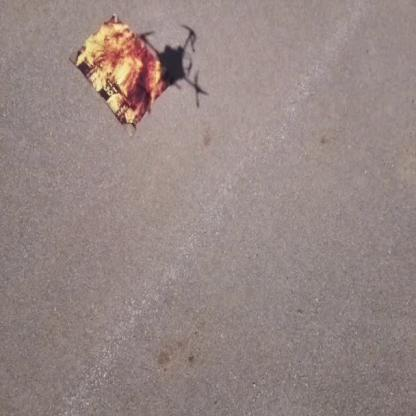fire-poster: (70, 14, 173, 132)
